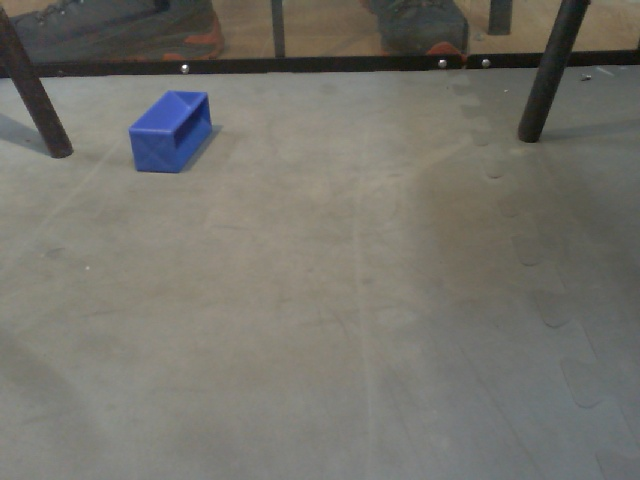BlueSample: (127, 89, 214, 176)
